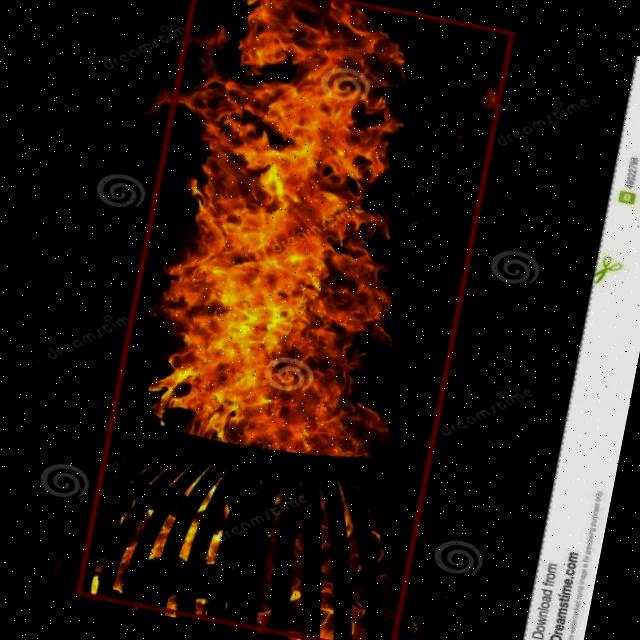fire: (75, 0, 513, 640)
